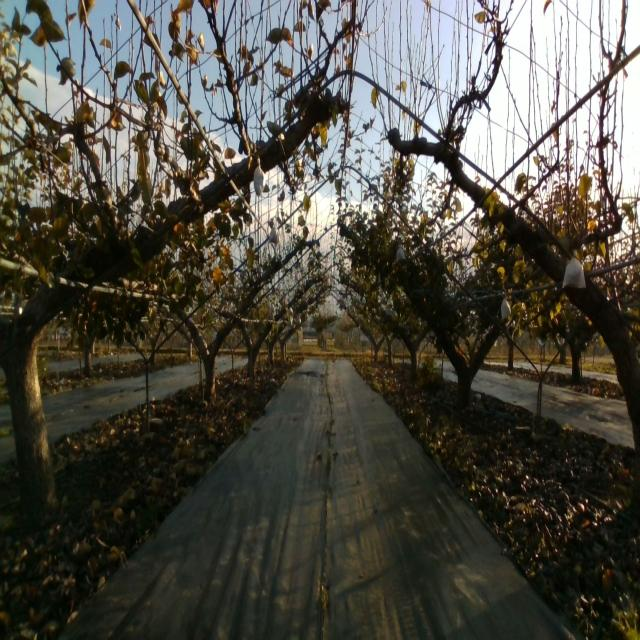pearbags: (562, 250, 586, 290), (253, 157, 267, 196), (501, 296, 511, 321), (268, 226, 282, 243)
